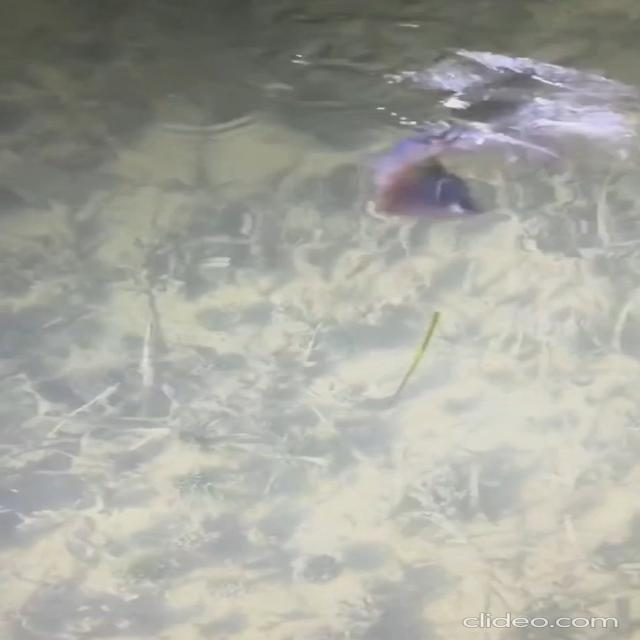fish: (347, 117, 562, 250)
